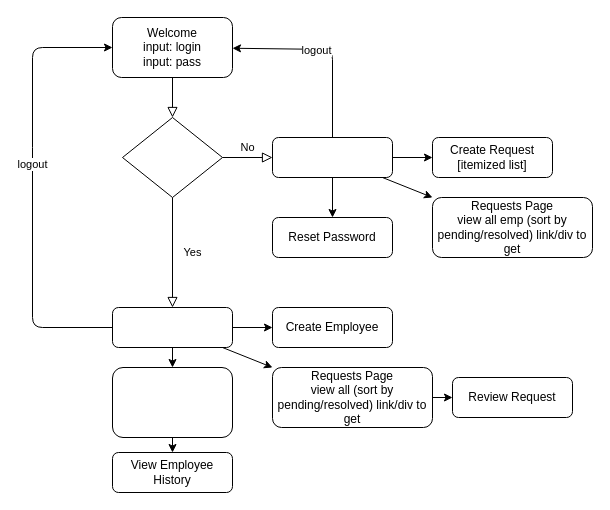
This 610x510 diagram has some shape labels left out. The shapes that lost their labels are listed below. From the top down, each one's centre as x and y in pixels, then its label:
At pixel 172 157: "Login (mgr?)".
At pixel 332 157: "Employee Home / Profile (edit)".
At pixel 172 327: "Manager Home / Profile".
At pixel 172 402: "View All Employees search by name, link to request history".
